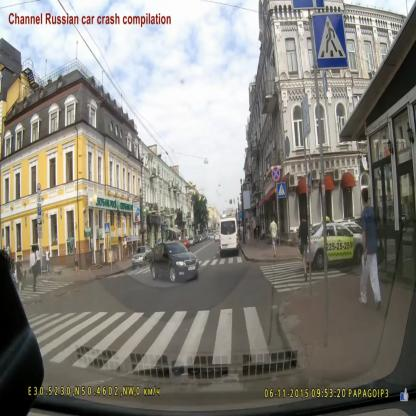crosswalk: (30, 314, 271, 369), (260, 260, 348, 292), (18, 277, 76, 306)
